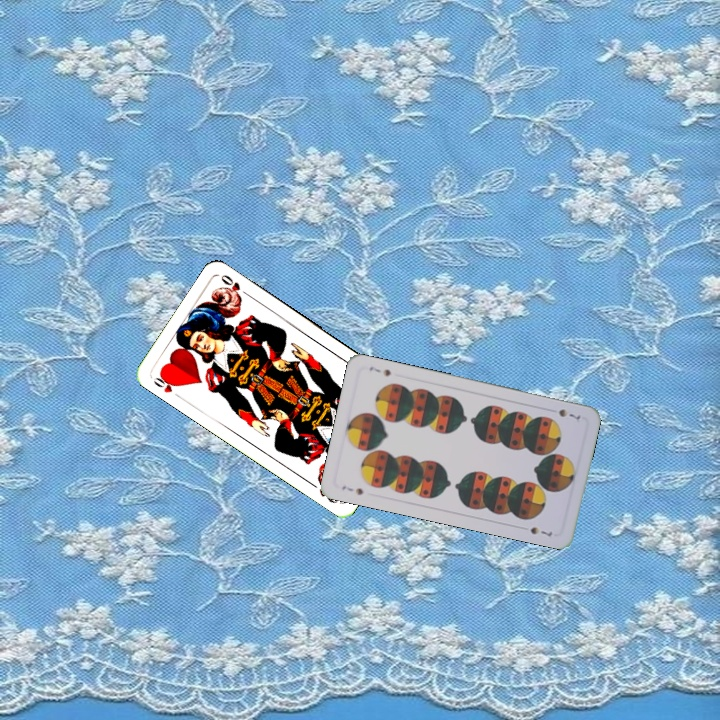HO: (150, 370, 184, 401)
S7: (554, 405, 583, 422), (338, 482, 366, 498)
